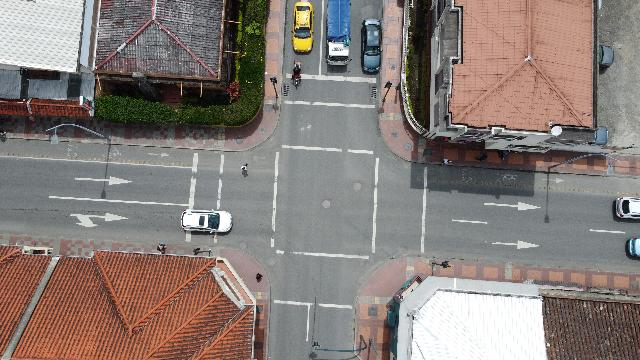Vehiculo: (181, 210, 233, 234), (292, 1, 314, 53), (361, 19, 381, 73), (615, 197, 639, 219)
